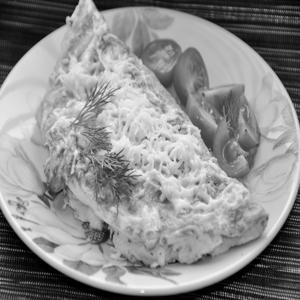omelet: (14, 10, 273, 271)
